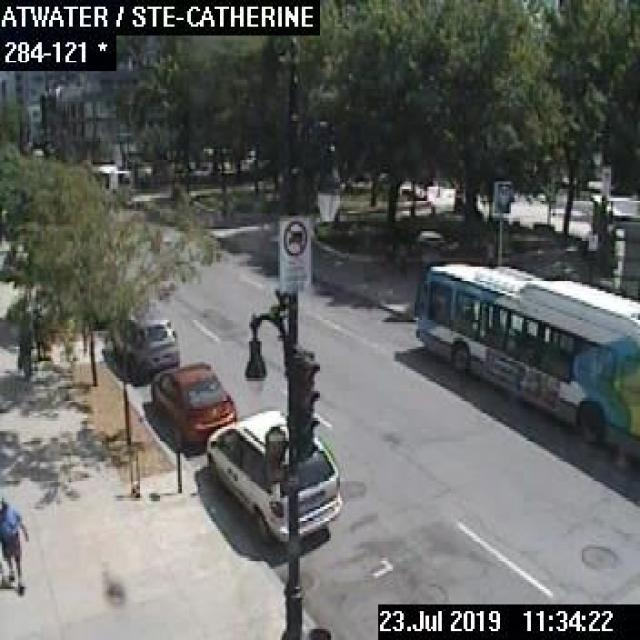bus: (414, 258, 638, 467)
pedestrian: (0, 493, 29, 591)
vehicle: (205, 408, 342, 545), (149, 362, 235, 446), (104, 313, 178, 380)
